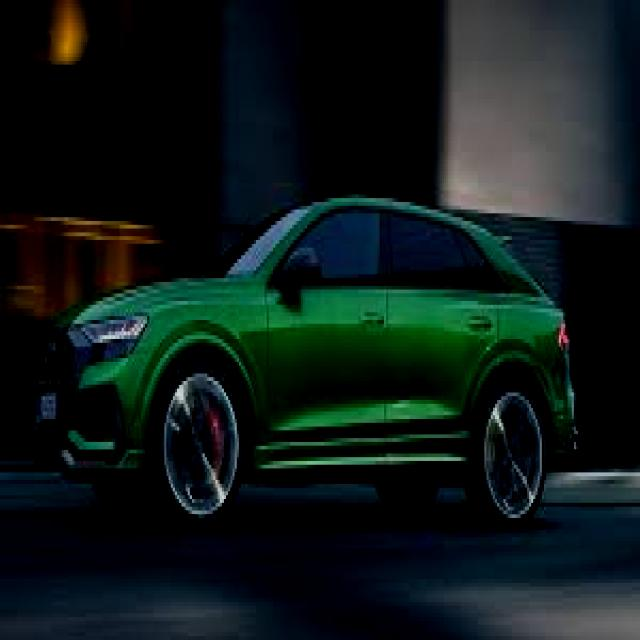SUV: (14, 191, 578, 533)
